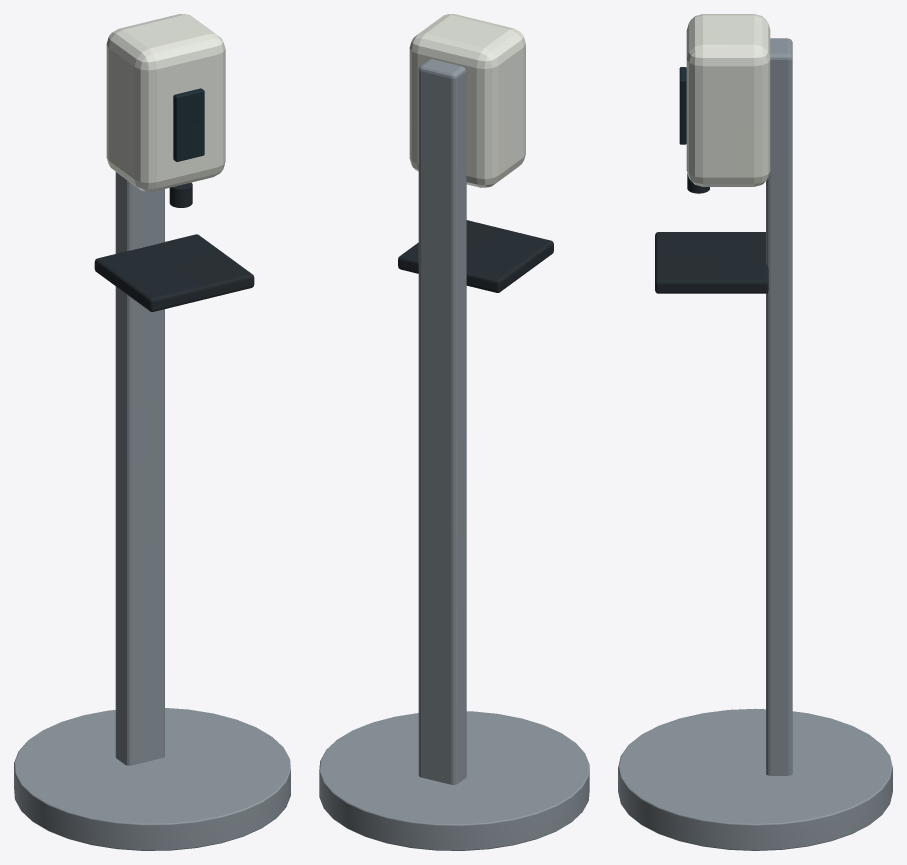
The model's file is sanitizer-station.glb.
The picture shows the model from 3 angles, left to right: view 1: azimuth 30°, elevation 25°; view 2: azimuth 150°, elevation 25°; view 3: azimuth 270°, elevation 25°; orthographic projection. The views are drawn at different scales.
Visible parts, largest first — view 1: Sanitizer stand base, Sanitizer upright, Sanitizer dispenser, Drip tray, Sanitizer level window, Dispensing nozzle; view 2: Sanitizer upright, Sanitizer stand base, Sanitizer dispenser, Drip tray; view 3: Sanitizer stand base, Sanitizer upright, Sanitizer dispenser, Drip tray, Sanitizer level window.
Part boxes in pixels (left/top/right/bottom): Sanitizer stand base: left=14, top=708, right=290, bottom=850; Sanitizer upright: left=115, top=172, right=164, bottom=765; Sanitizer dispenser: left=106, top=14, right=225, bottom=191; Drip tray: left=94, top=234, right=254, bottom=311; Sanitizer level window: left=173, top=88, right=204, bottom=161; Dispensing nozzle: left=169, top=182, right=192, bottom=207; Sanitizer upright: left=418, top=59, right=466, bottom=784; Sanitizer stand base: left=319, top=711, right=589, bottom=850; Sanitizer dispenser: left=409, top=14, right=525, bottom=187; Drip tray: left=398, top=220, right=553, bottom=292; Sanitizer stand base: left=618, top=708, right=892, bottom=850; Sanitizer upright: left=766, top=38, right=792, bottom=775; Sanitizer dispenser: left=686, top=14, right=770, bottom=186; Drip tray: left=655, top=232, right=768, bottom=293; Sanitizer level window: left=679, top=67, right=686, bottom=144.
Bounding box in the file's own units: 0.46 × 1.41 × 0.46.
Materials: 4 (4 with a texture image).
